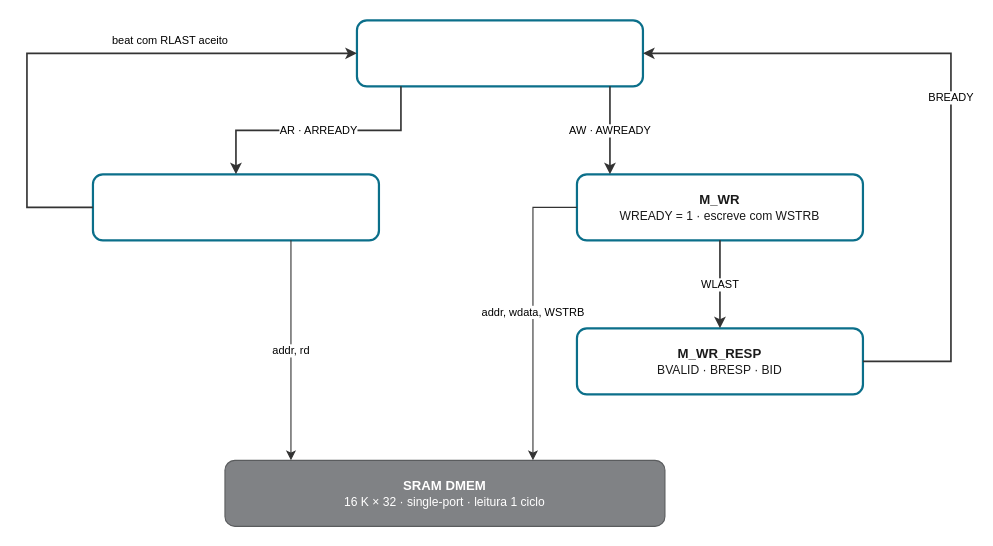
This 993x546 diagram has some shape labels left out. The shapes that lost their labels are listed below. From the top down, each one's centre as x and y in pixels, then its label:
At point (499, 53): "M_IDLE escolhe AR ou AW (round-robin)".
At point (235, 207): "M_RD lê SRAM · fila de 2 · RVALID · RLAST".
